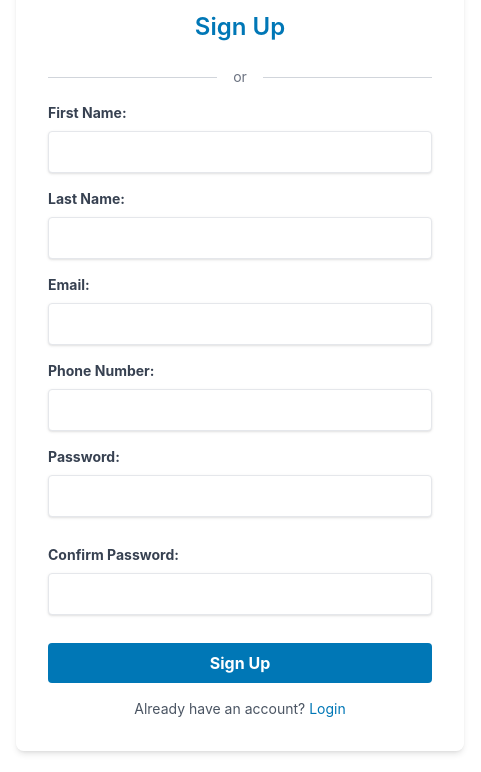
Test case: Signup › handles network error
Type "John" into the field labelled "First Name:" at x=240, y=152, box [48, 131, 432, 173]
Type "Doe" into the field labelled "Last Name:" at x=240, y=238, box [48, 217, 432, 259]
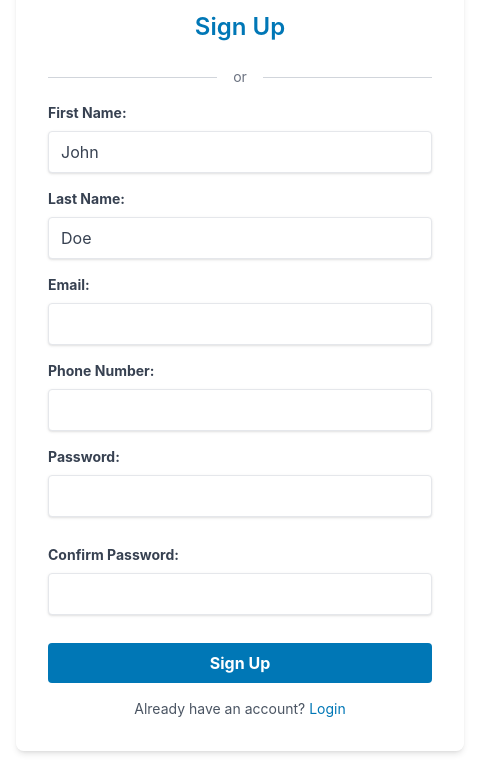
Type "john.doe@example.com" into the field labelled "Email:" at x=240, y=324, box [48, 303, 432, 345]
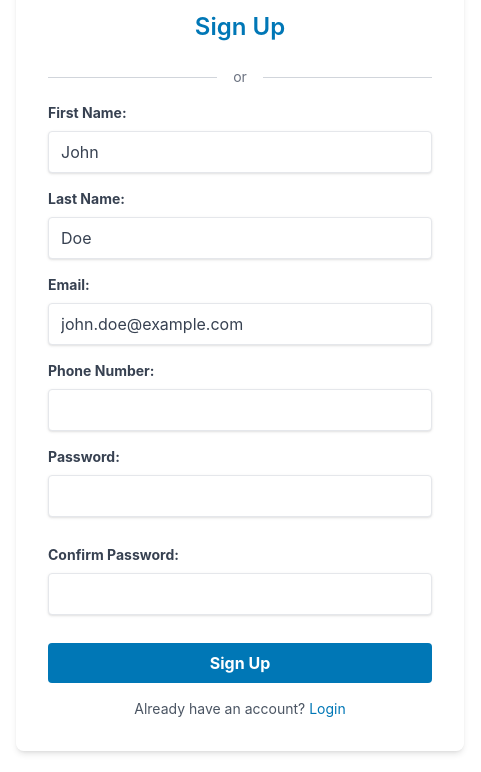
Type "+254700000000" into the field labelled "Phone Number:" at x=240, y=410, box [48, 389, 432, 431]
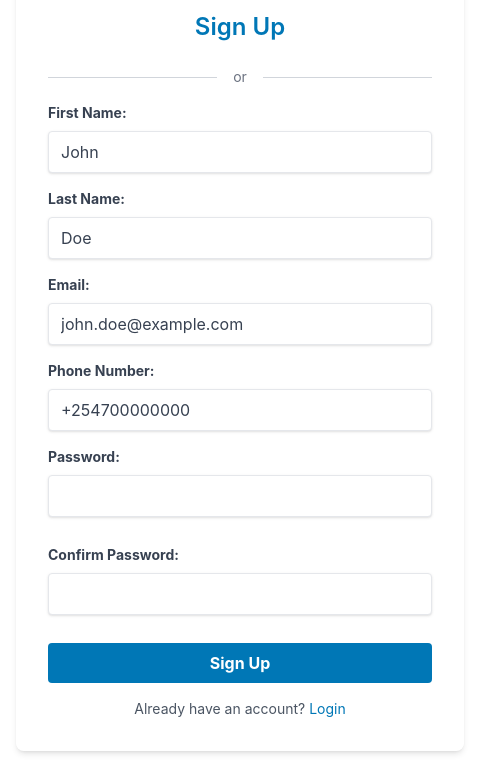
Type "password123" into the password field labelled "Password:" at x=240, y=496, box [48, 475, 432, 517]
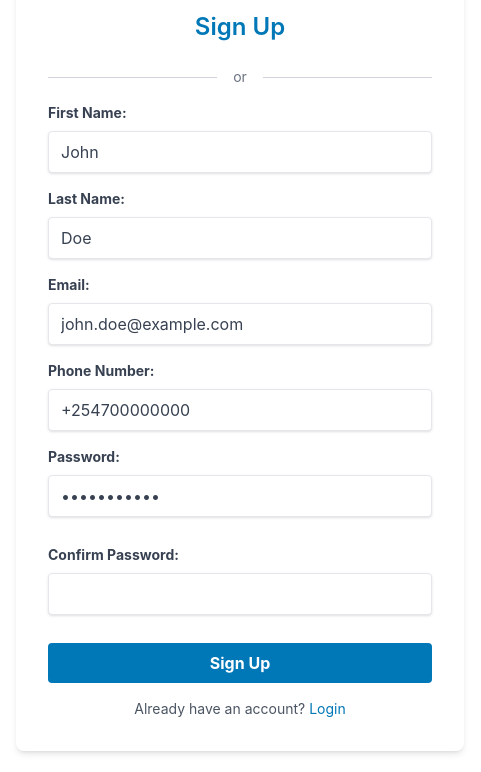
Type "password123" into the password field labelled "Confirm Password:" at x=240, y=594, box [48, 573, 432, 615]
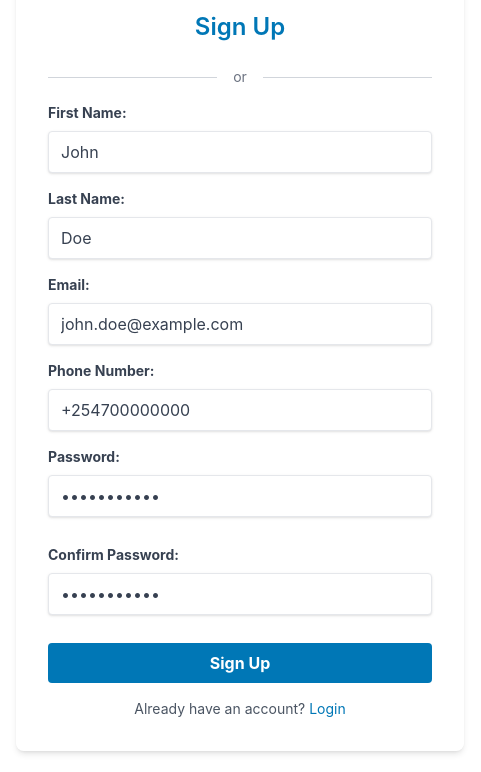
Click the button "Sign Up" at x=240, y=663, box [48, 643, 432, 683]
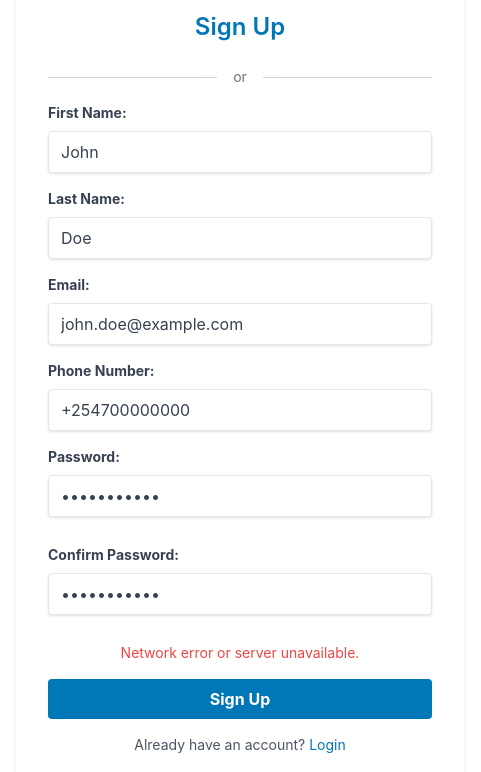
Check: the text "Network error or server unavailable." is shown, box [121, 644, 359, 661]
